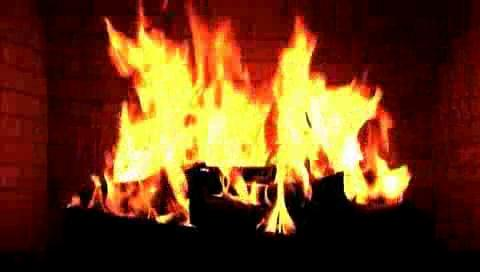fire: (75, 17, 414, 237)
